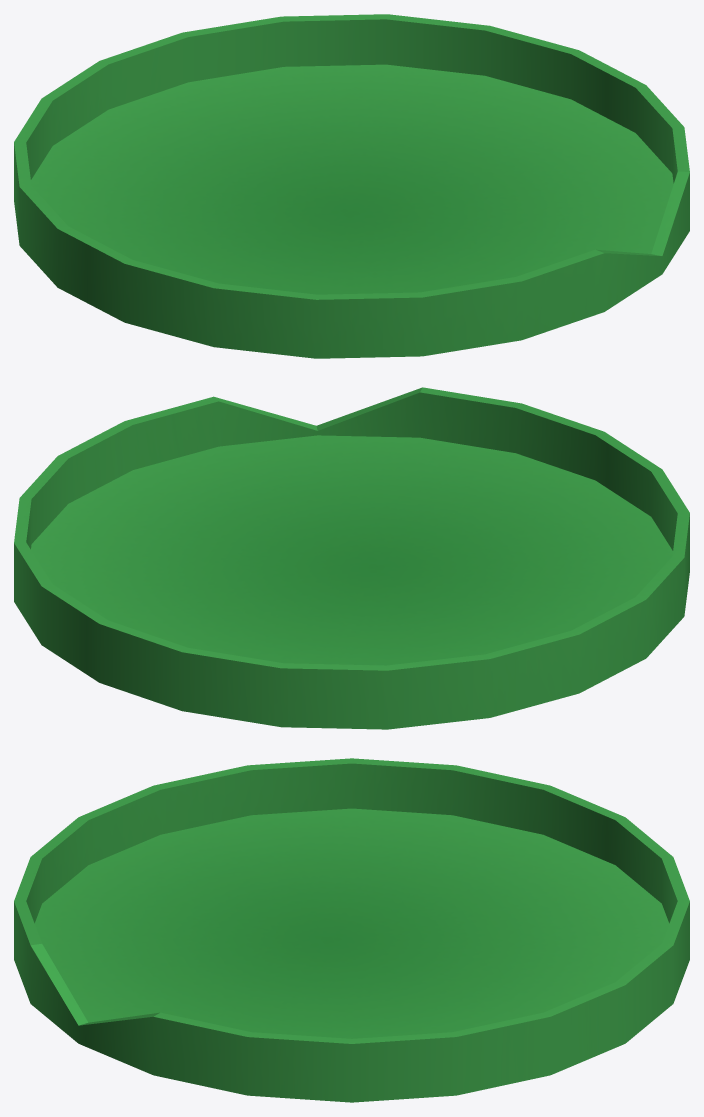
Rendered from SM_Sw_GiantWaterLily_02.fbx.
3 renders of one model, top to bottom at view 1: azimuth 30°, elevation 25°; view 2: azimuth 150°, elevation 25°; view 3: azimuth 270°, elevation 25°, orthographic.
Visible parts, largest first — view 1: SM_Sw_GiantWaterLily_02; view 2: SM_Sw_GiantWaterLily_02; view 3: SM_Sw_GiantWaterLily_02.
Boxes of the visible parts, x1=… form: SM_Sw_GiantWaterLily_02: x1=14, y1=14, x2=689, y2=358; SM_Sw_GiantWaterLily_02: x1=14, y1=387, x2=689, y2=729; SM_Sw_GiantWaterLily_02: x1=14, y1=758, x2=689, y2=1102.
Bounding box in the file's own units: 119 × 11.39 × 119.
